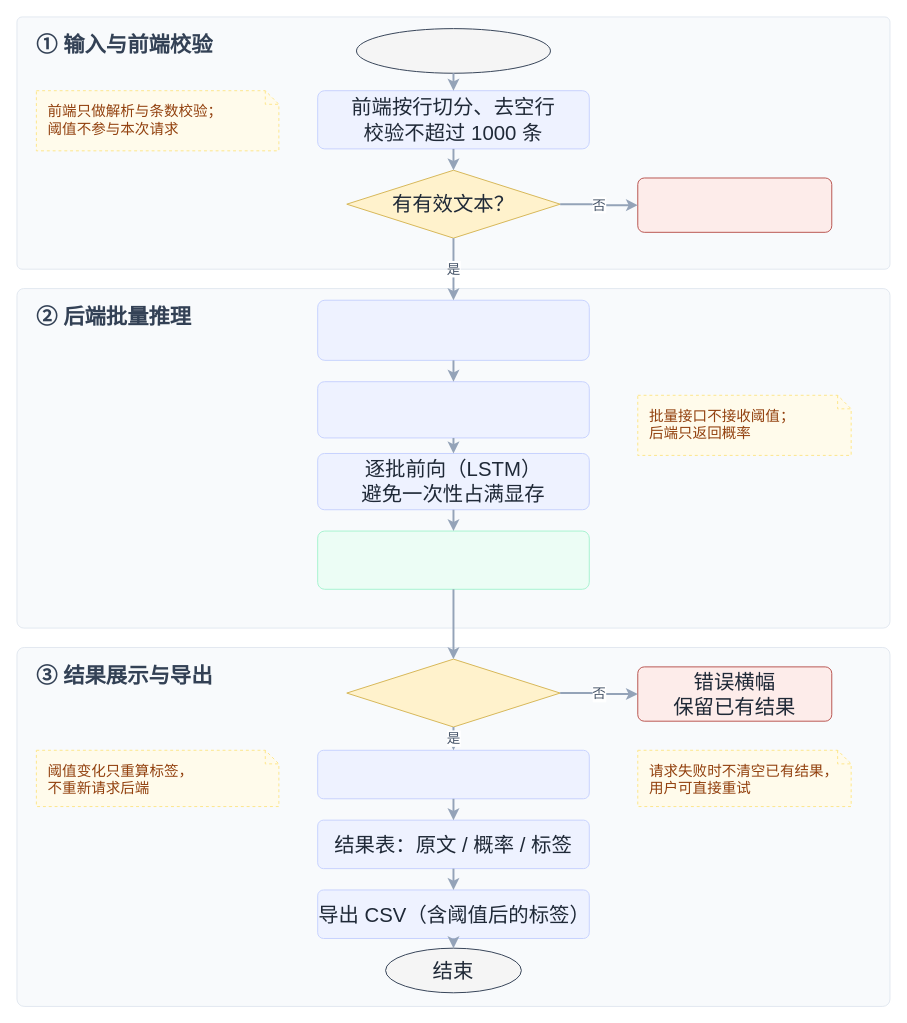
The diagram is 907 pixels wide and 1023 high, and some of its shapes have lost their labels. Each missing label, with the box of its shape:
POST /api/batch 批量文本 / 模型 / 截断长度: (317, 299, 589, 360)
前端阈值 → 标签（本地）: (317, 749, 589, 799)
参数校验；按 BATCH_SIZE=64 分批: (317, 381, 589, 438)
开始：用户输入: (356, 28, 550, 73)
提示错误 保留已有结果: (637, 177, 832, 232)
每条 prob_pos / prob_neg 按输入顺序组装 JSON: (317, 530, 589, 589)
请求成功？: (346, 658, 560, 727)
